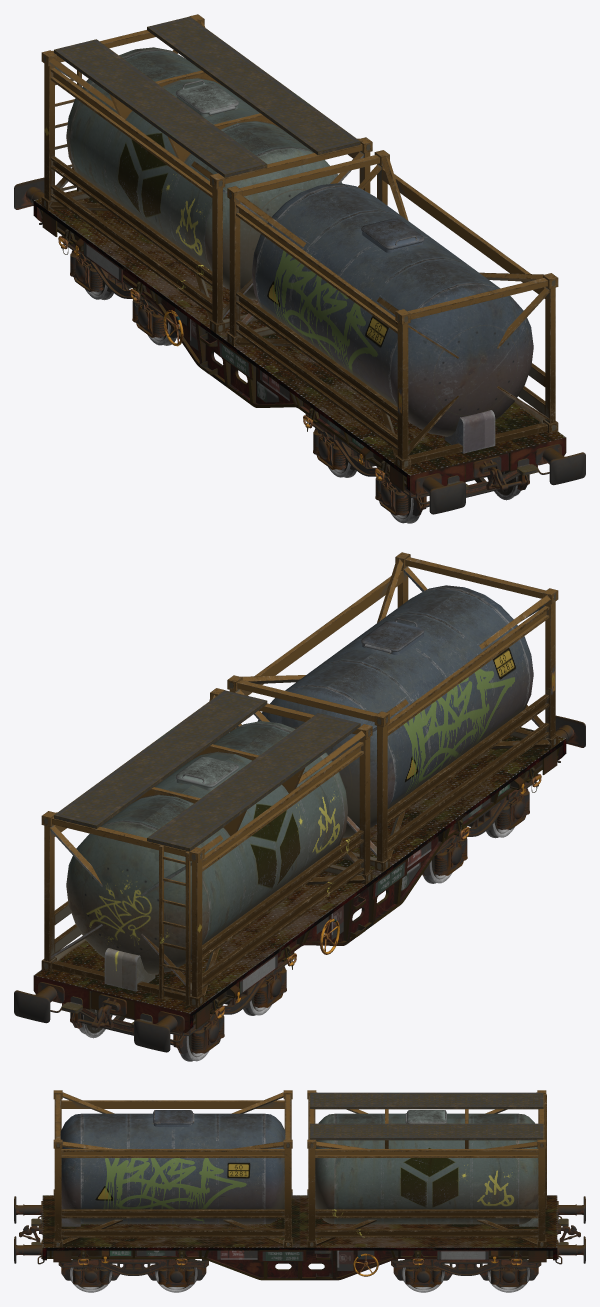
The picture shows the model from 3 angles, top to bottom: view 1: azimuth 30°, elevation 25°; view 2: azimuth 150°, elevation 25°; view 3: azimuth 270°, elevation 25°; orthographic projection. The views are drawn at different scales.
Visible parts, largest first — view 1: WagonLow; view 2: WagonLow; view 3: WagonLow.
Part boxes in pixels (x1,y1,x2,y2): WagonLow: [14, 14, 585, 523]; WagonLow: [14, 552, 585, 1061]; WagonLow: [14, 1090, 585, 1292].
Bounding box in the file's own units: 2.7 × 3.78 × 12.05.
3 materials, 3 textured.
